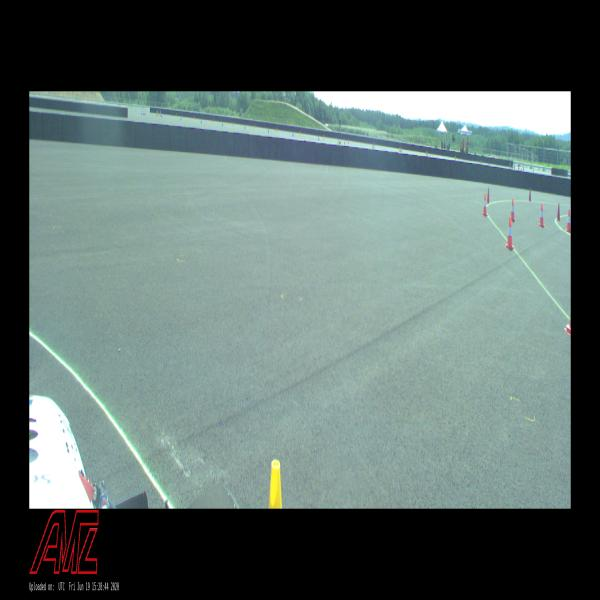orange_cone: (505, 216, 514, 250), (539, 204, 545, 228), (482, 194, 488, 216), (511, 199, 516, 222), (566, 210, 570, 233)
unknown_cone: (556, 203, 560, 220), (487, 188, 489, 203), (529, 188, 531, 201)
